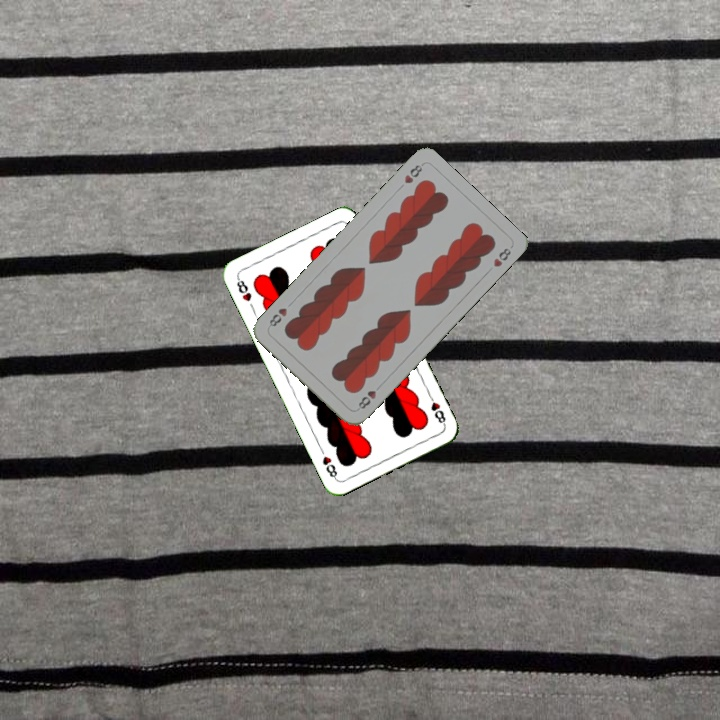H8: (424, 390, 448, 428), (400, 160, 426, 186), (354, 386, 379, 412), (233, 274, 254, 304)
